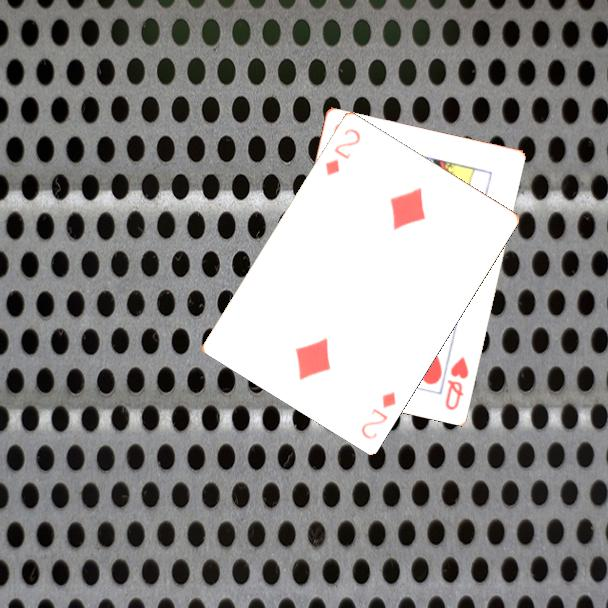d02: (357, 388, 399, 442), (322, 125, 363, 179)
h12: (441, 352, 471, 413)
